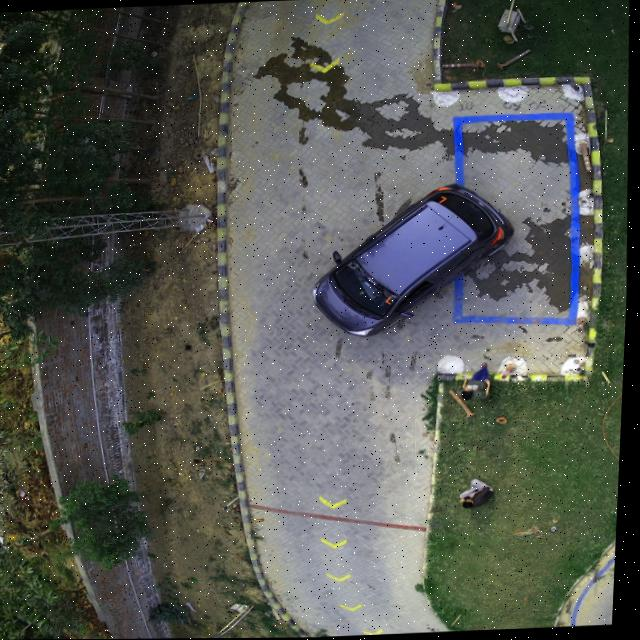car: (317, 183, 514, 335)
